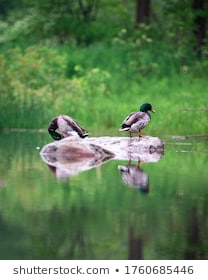duck: (113, 95, 159, 141)
